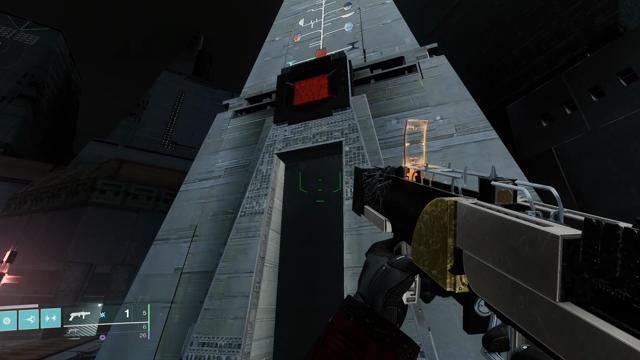stop: (286, 63, 340, 116)
